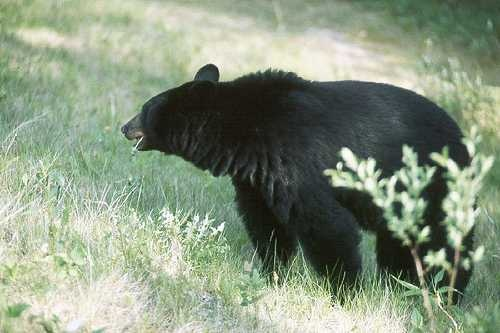bear: (106, 60, 234, 188)
